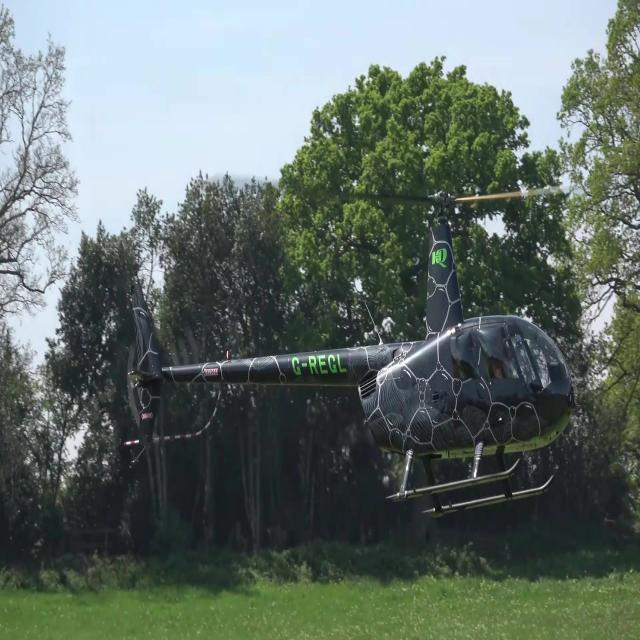CIV_HELO: (126, 190, 576, 519)
